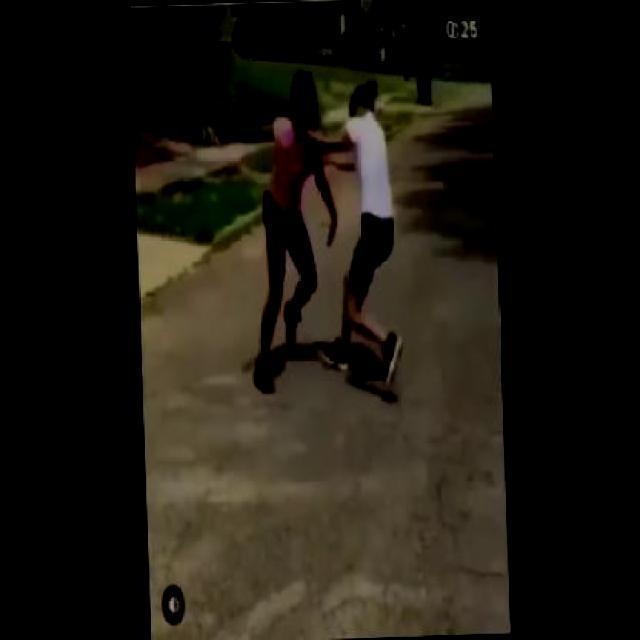fight: (244, 64, 406, 403)
